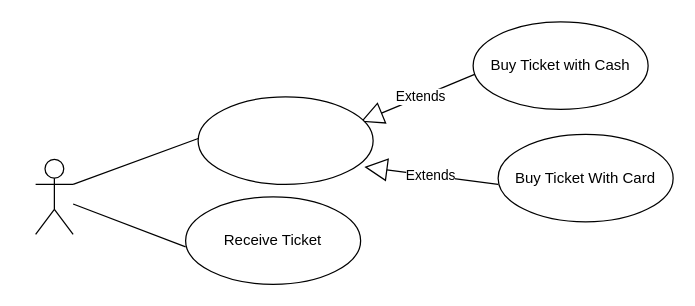
The diagram is 695 pixels wide and 306 high, and some of its shapes have lost their labels. Each missing label, with the box of its shape:
Buy Ticket: (197, 96, 373, 184)
Customer: (34, 158, 73, 234)
